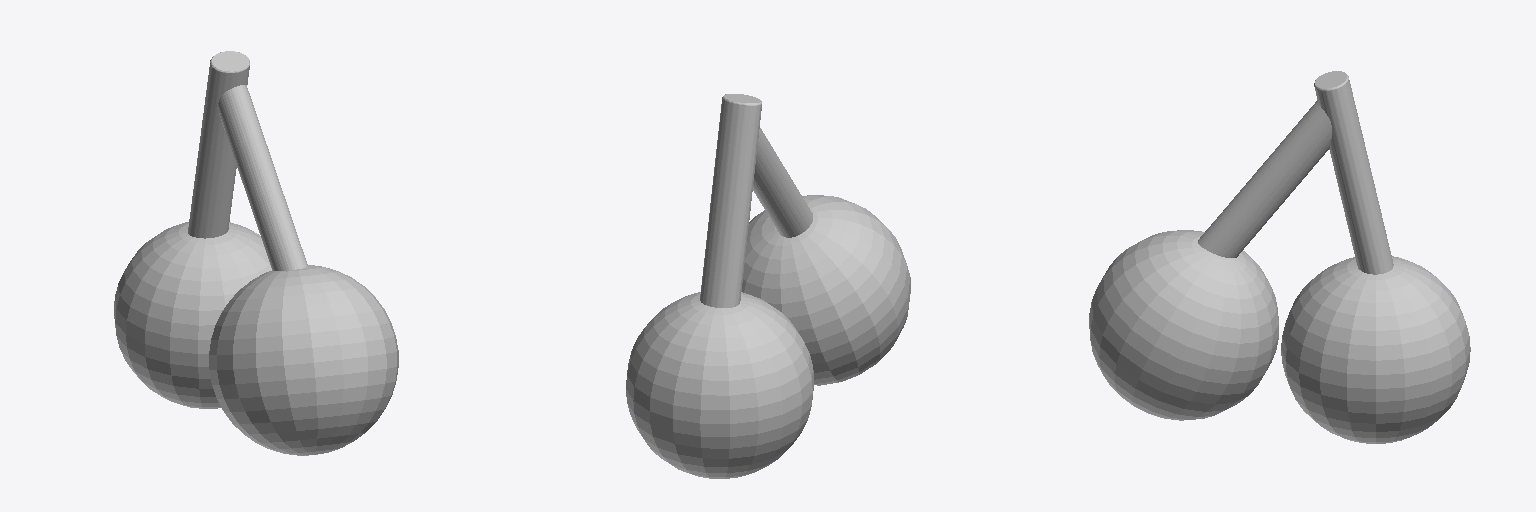
File: Bonus_double.obj
3 renders of one model, left to right at view 1: azimuth 30°, elevation 25°; view 2: azimuth 150°, elevation 25°; view 3: azimuth 270°, elevation 25°, orthographic.
Visible parts, largest first — view 1: pCylinder3; view 2: pCylinder3; view 3: pCylinder3.
Boxes of the visible parts, x1,y1,x2,y2 form: pCylinder3: [114, 51, 398, 455]; pCylinder3: [626, 94, 910, 478]; pCylinder3: [1089, 71, 1470, 443].
Bounding box in the file's own units: 0.5055 × 1.05 × 1.01.